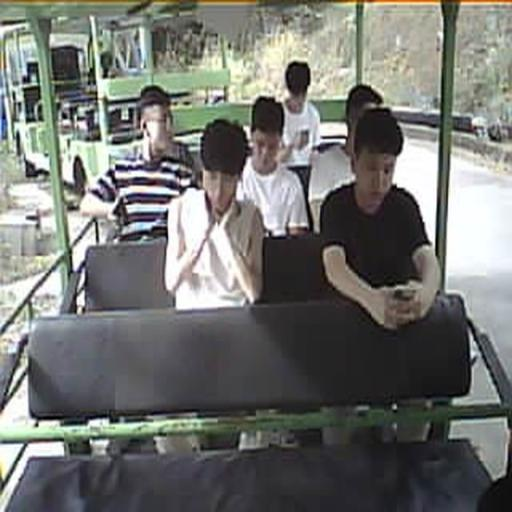persona: (318, 106, 442, 330), (164, 118, 266, 310), (79, 84, 199, 243), (309, 83, 384, 230), (236, 96, 311, 238), (277, 60, 321, 166)
